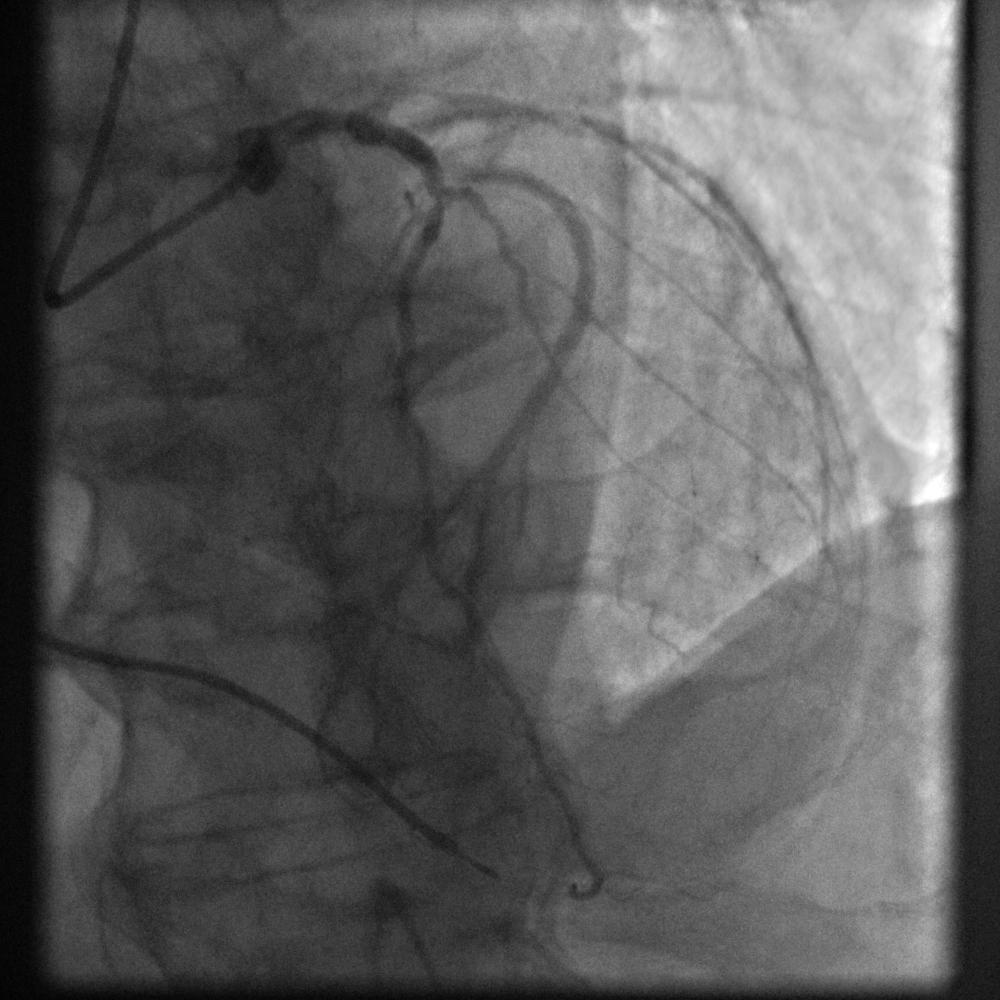Stenosis: (419, 166, 478, 225)
